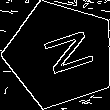N_W: (29, 27, 92, 82)
